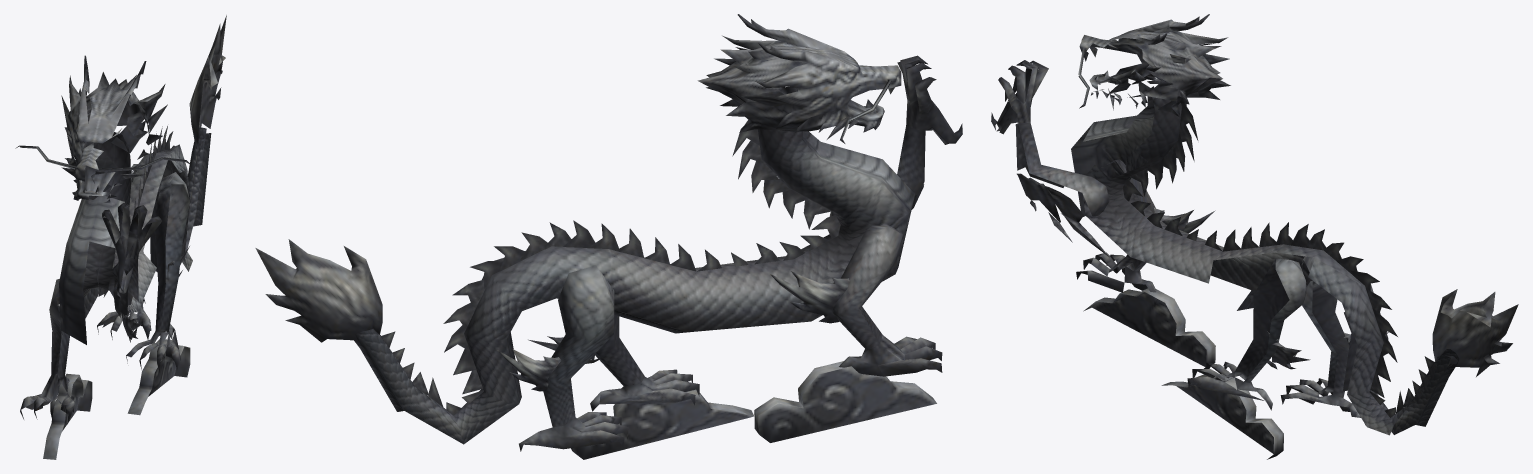
File: S2_Build_XSC091_H1.FBX
3 views of the same model, side by side, from view 1: azimuth 30°, elevation 25°; view 2: azimuth 150°, elevation 25°; view 3: azimuth 270°, elevation 25° (orthographic). The views are drawn at different scales.
Parts seen in each view (by area): view 1: S2_Build_XSC091_H1; view 2: S2_Build_XSC091_H1; view 3: S2_Build_XSC091_H1.
Boxes of the visible parts, bbox=[...] form: S2_Build_XSC091_H1: bbox=[15, 15, 226, 459]; S2_Build_XSC091_H1: bbox=[255, 14, 962, 459]; S2_Build_XSC091_H1: bbox=[991, 14, 1518, 459].
Size of the model in its own units: 995 by 877 by 1099.
